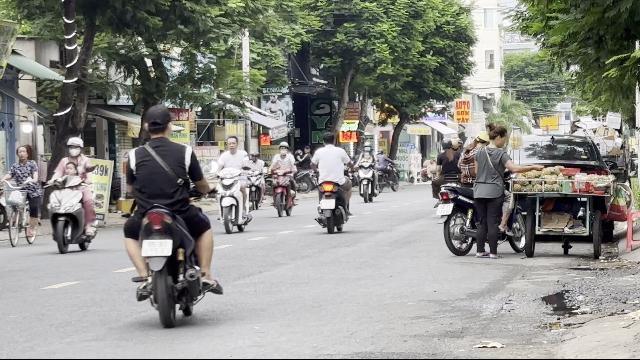helmet: (65, 136, 83, 156)
licenseplate: (142, 240, 172, 256), (436, 203, 454, 215), (321, 199, 335, 209)
motorcyclist: (118, 102, 220, 326), (44, 135, 100, 253), (311, 132, 353, 232), (212, 134, 252, 234)
nohelmet: (142, 105, 174, 139), (225, 135, 239, 153), (64, 162, 78, 178), (322, 131, 336, 145)
